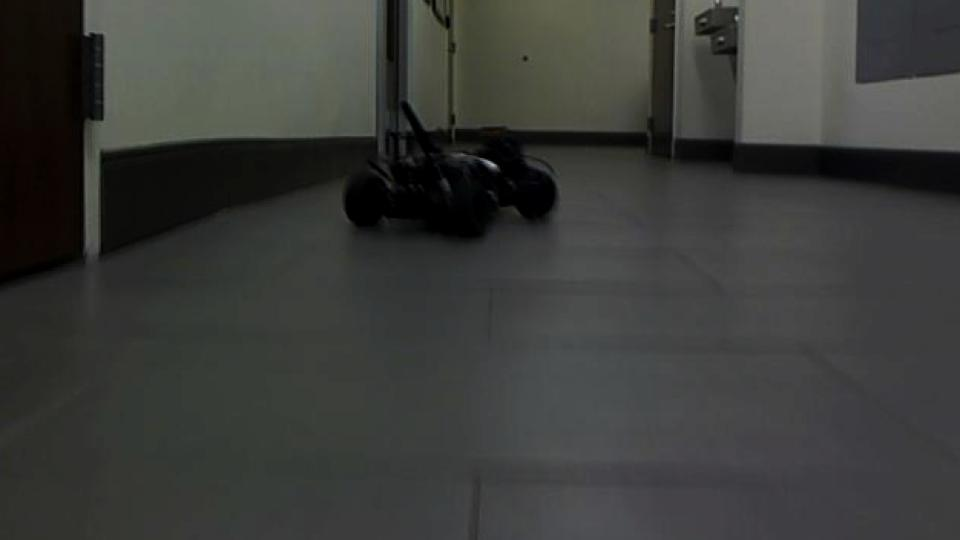car: (340, 97, 563, 241)
